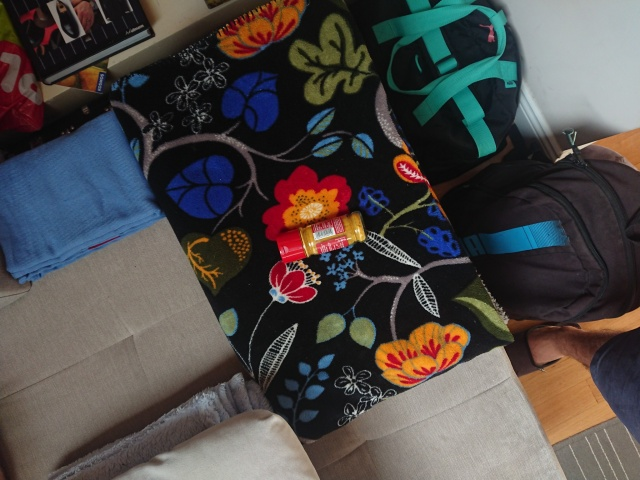Kotanyi Curry Spices Mix 70g: (274, 208, 370, 266)
